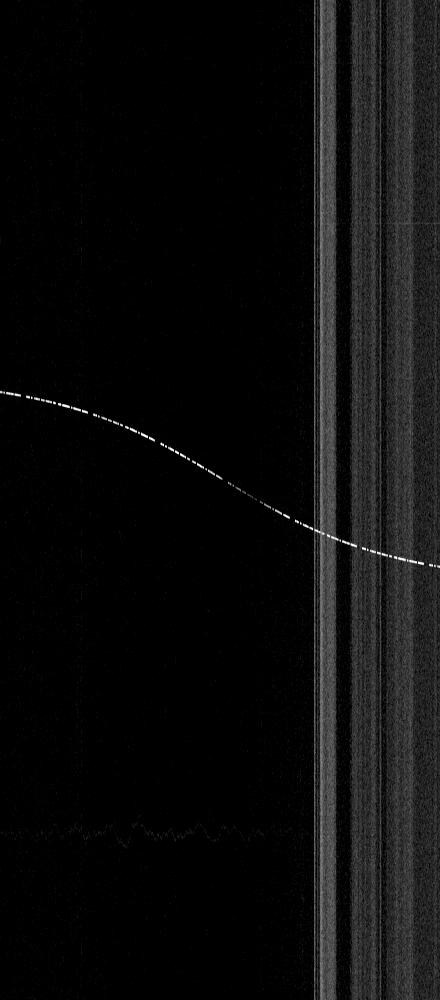signal: (0, 0, 439, 999)
